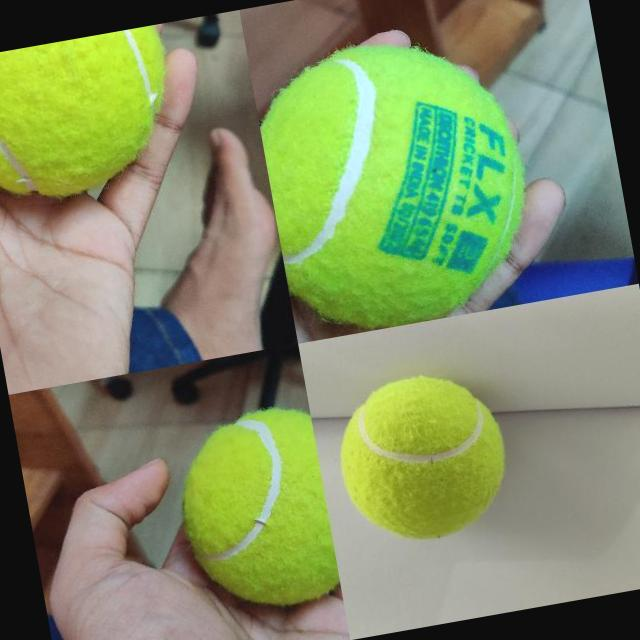tennis-ball: (248, 22, 544, 342), (167, 402, 341, 620), (326, 362, 520, 554), (0, 23, 186, 213)
